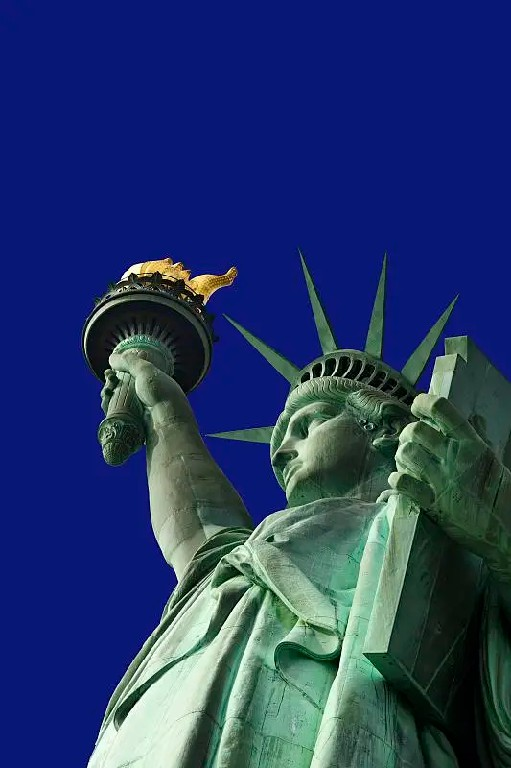SL: (82, 247, 511, 768)
